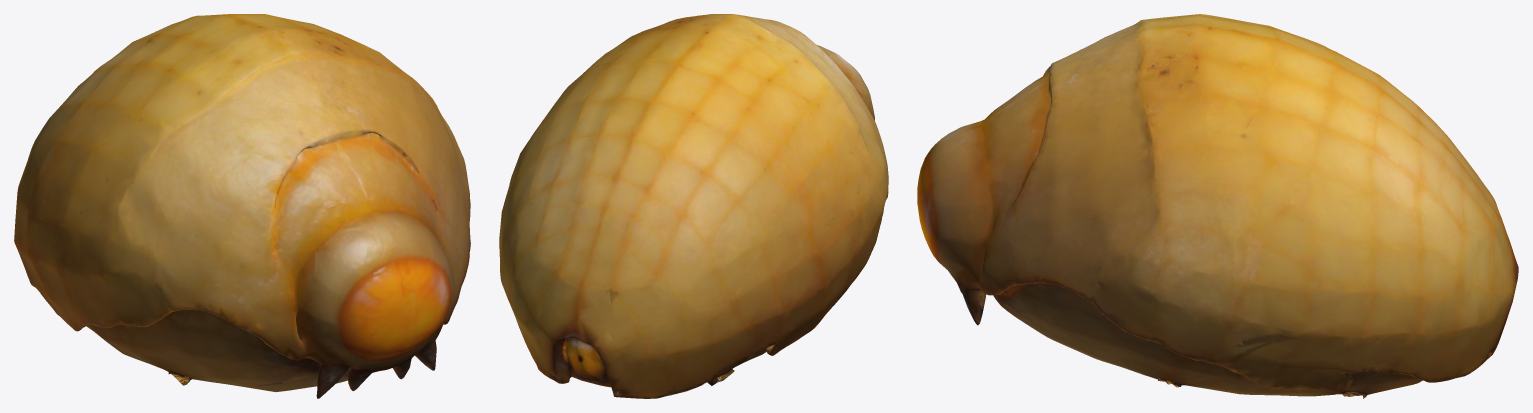
The model's file is zurk.fbx.
The picture shows the model from 3 angles, left to right: view 1: azimuth 30°, elevation 25°; view 2: azimuth 150°, elevation 25°; view 3: azimuth 270°, elevation 25°; orthographic projection. The views are drawn at different scales.
Visible parts, largest first — view 1: _gltfNode_0; view 2: _gltfNode_0; view 3: _gltfNode_0.
Part boxes in pixels (box(x1,y1,x2,y2)): _gltfNode_0: box(14, 14, 470, 398); _gltfNode_0: box(499, 14, 888, 398); _gltfNode_0: box(917, 14, 1518, 398).
Bounding box in the file's own units: 142 × 128 × 200.
1 material, 1 textured.
